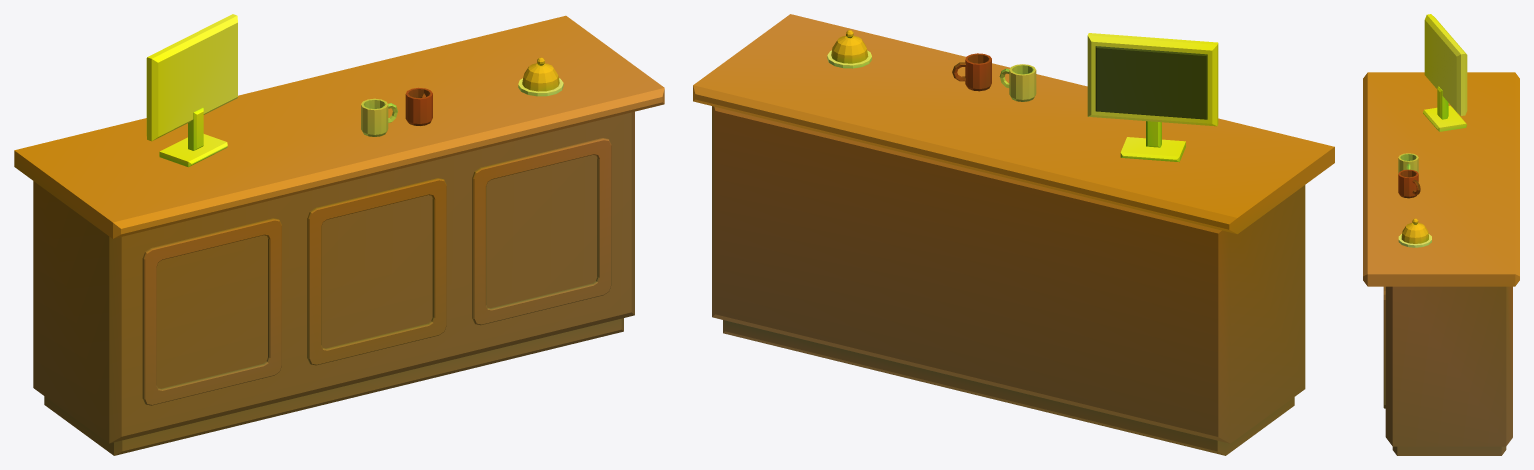
Rendered from Prop_CoffeeCounter.fbx.
The picture shows the model from 3 angles, left to right: view 1: azimuth 30°, elevation 25°; view 2: azimuth 150°, elevation 25°; view 3: azimuth 270°, elevation 25°; orthographic projection. The views are drawn at different scales.
Parts seen in each view (by area): view 1: Prop_CoffeeCounter; view 2: Prop_CoffeeCounter; view 3: Prop_CoffeeCounter.
Boxes of the visible parts, box(x1,y1,x2,y2) form: Prop_CoffeeCounter: box(14, 14, 664, 455); Prop_CoffeeCounter: box(693, 14, 1334, 455); Prop_CoffeeCounter: box(1363, 14, 1519, 455).
Size of the model in its own units: 2.1 by 1.34 by 0.69.
